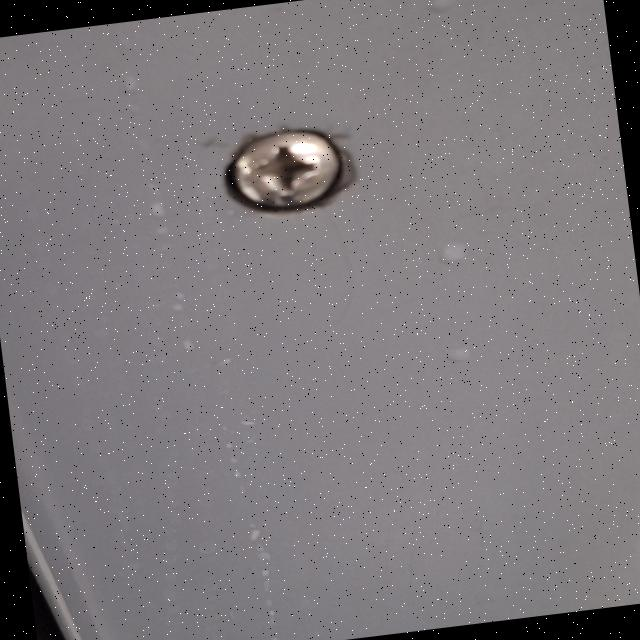Phillips: (216, 115, 373, 228)
